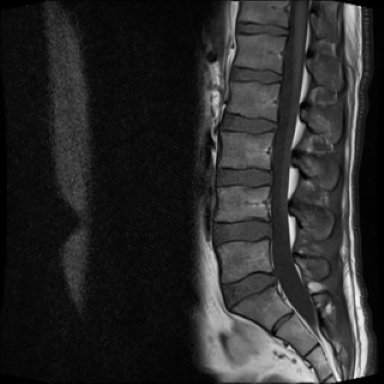Normal IVD: (217, 265, 281, 314), (206, 214, 278, 246), (215, 108, 282, 140), (208, 162, 279, 190), (227, 63, 287, 88), (234, 20, 292, 38)
